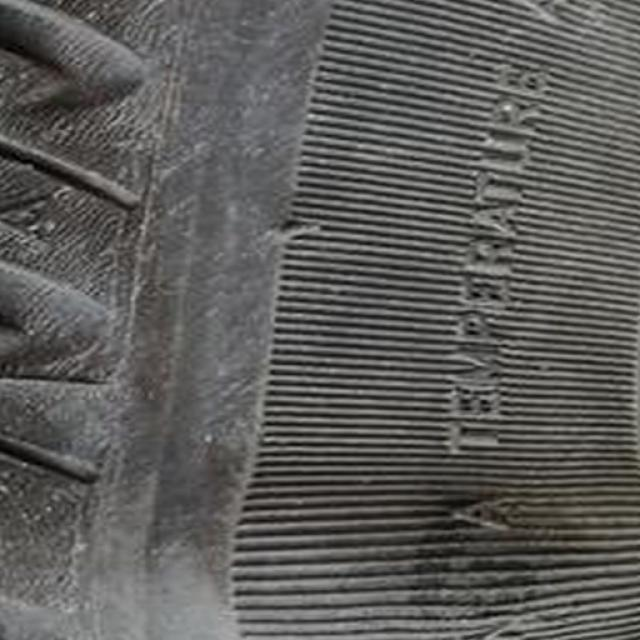Bulge: (155, 378, 575, 531)
